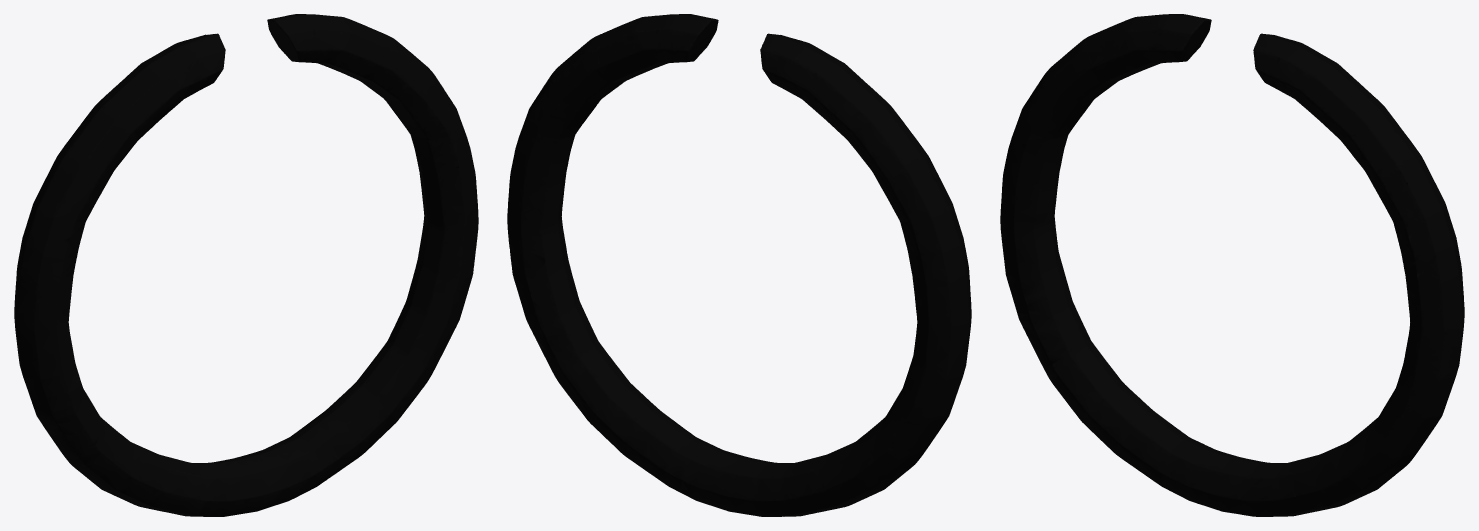
File: black_hoop.glb
The picture shows the model from 3 angles, left to right: view 1: azimuth 30°, elevation 25°; view 2: azimuth 150°, elevation 25°; view 3: azimuth 330°, elevation 25°; orthographic projection.
Parts seen in each view (by area): view 1: Mesh_0; view 2: Mesh_0; view 3: Mesh_0.
Part boxes in pixels (x1,y1,x2,y2): Mesh_0: (14,14,478,516); Mesh_0: (507,14,971,516); Mesh_0: (1000,14,1464,516).
Bounding box in the file's own units: 1.9 × 1.91 × 0.2127.
1 material, 1 textured.
